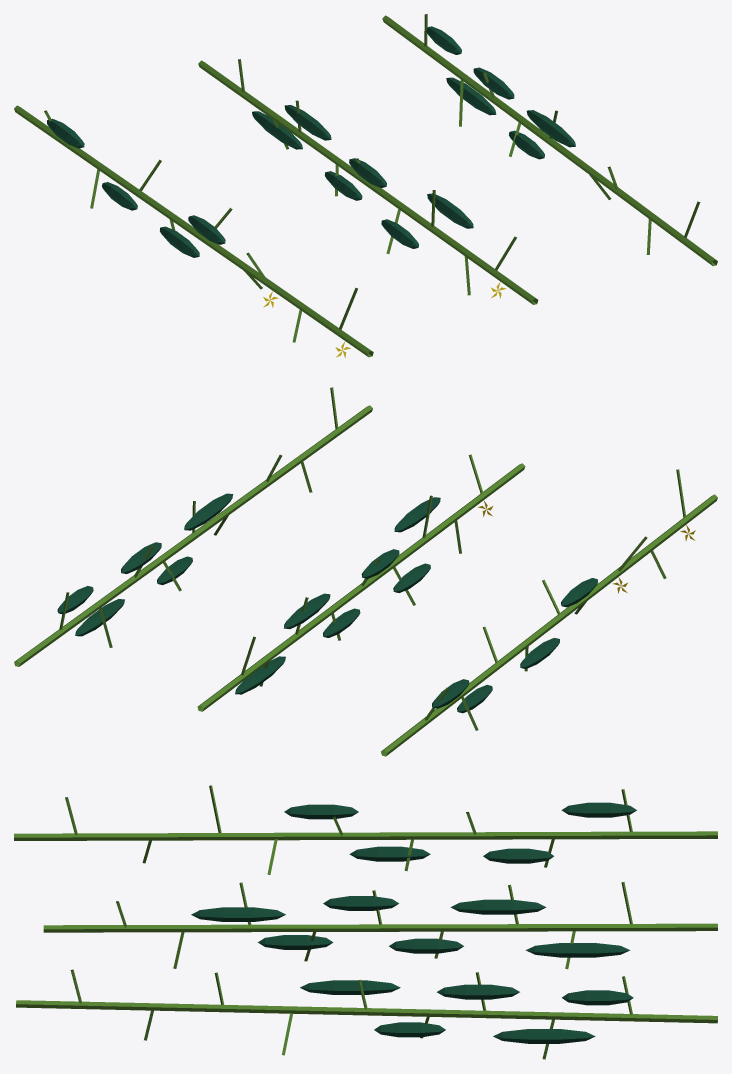
Rendered from r26c2_stems.obj.
3 renders of one model, top to bottom at view 1: azimuth 30°, elevation 25°; view 2: azimuth 150°, elevation 25°; view 3: azimuth 270°, elevation 25°, orthographic. The views are drawn at different scales.
Parts seen in each view (by area): view 1: r26c2_stems; view 2: r26c2_stems; view 3: r26c2_stems.
Boxes of the visible parts, <box> form: r26c2_stems: <box>14,14,717,357</box>; r26c2_stems: <box>14,387,717,756</box>; r26c2_stems: <box>14,785,717,1059</box>.
Bounding box in the file's own units: 1.33 × 0.2893 × 1.97.
